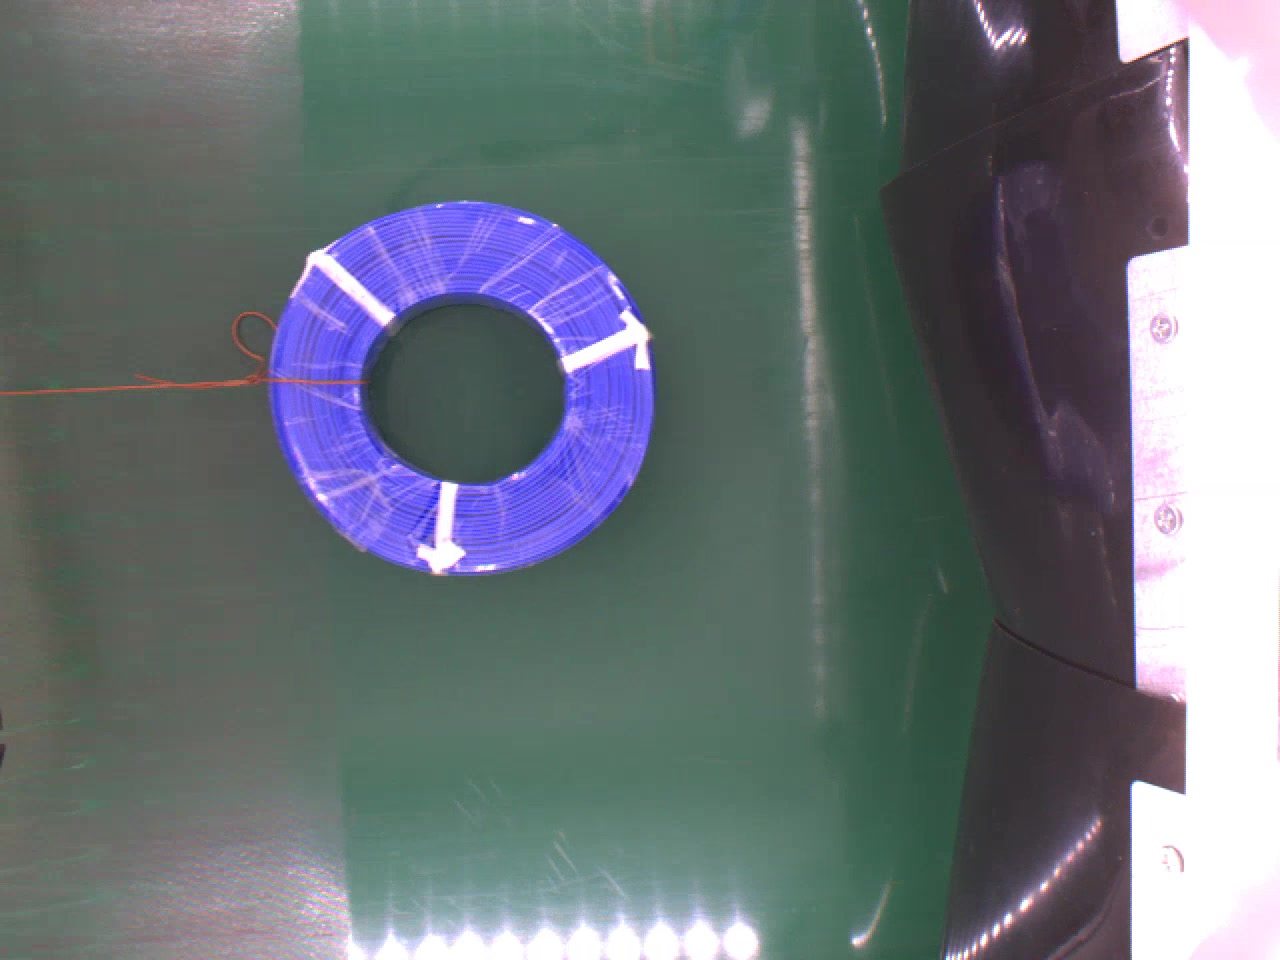blue: (269, 195, 661, 571)
